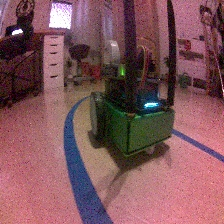rob: (87, 48, 175, 158)
